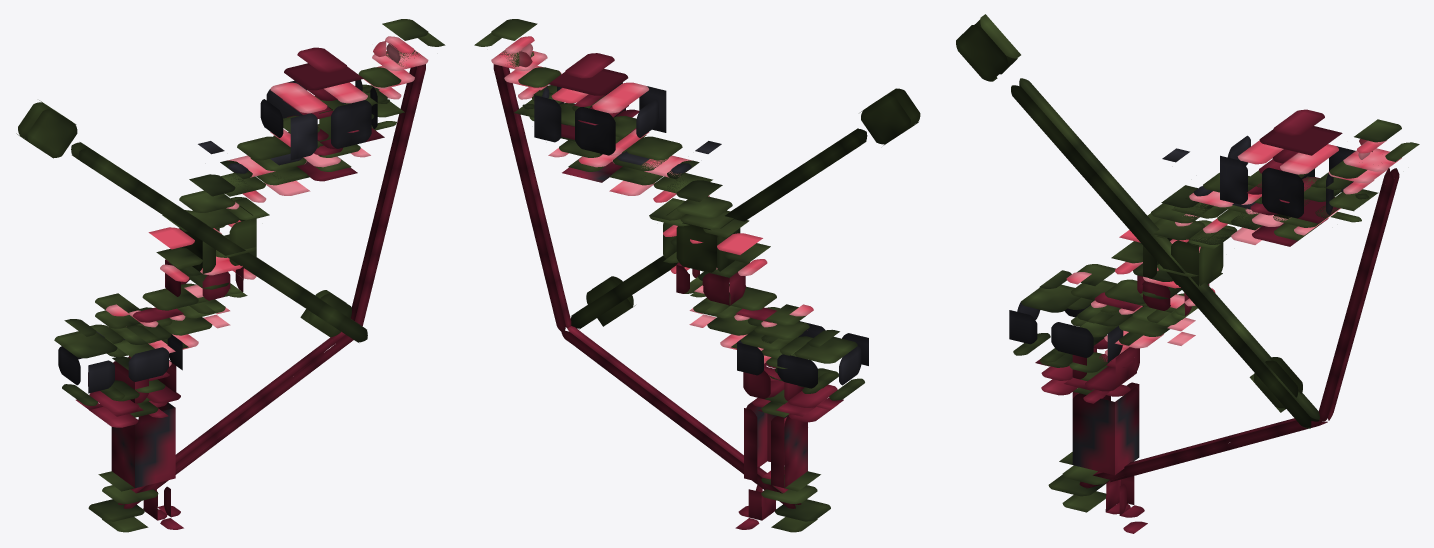
The model's file is thornbow_pulling_2.obj.
The picture shows the model from 3 angles, left to right: view 1: azimuth 30°, elevation 25°; view 2: azimuth 150°, elevation 25°; view 3: azimuth 330°, elevation 25°; orthographic projection. The views are drawn at different scales.
Visible parts, largest first — view 1: lit, fire; view 2: lit, fire; view 3: lit, fire.
Boxes of the visible parts, x1=… form: lit: x1=16, y1=19, x2=445, y2=532; fire: x1=300, y1=290, x2=351, y2=338; lit: x1=474, y1=19, x2=920, y2=532; fire: x1=586, y1=276, x2=635, y2=326; lit: x1=956, y1=14, x2=1419, y2=533; fire: x1=1249, y1=357, x2=1302, y2=412.
Bounding box in the file's own units: 0.9821 × 1.02 × 0.1625.
